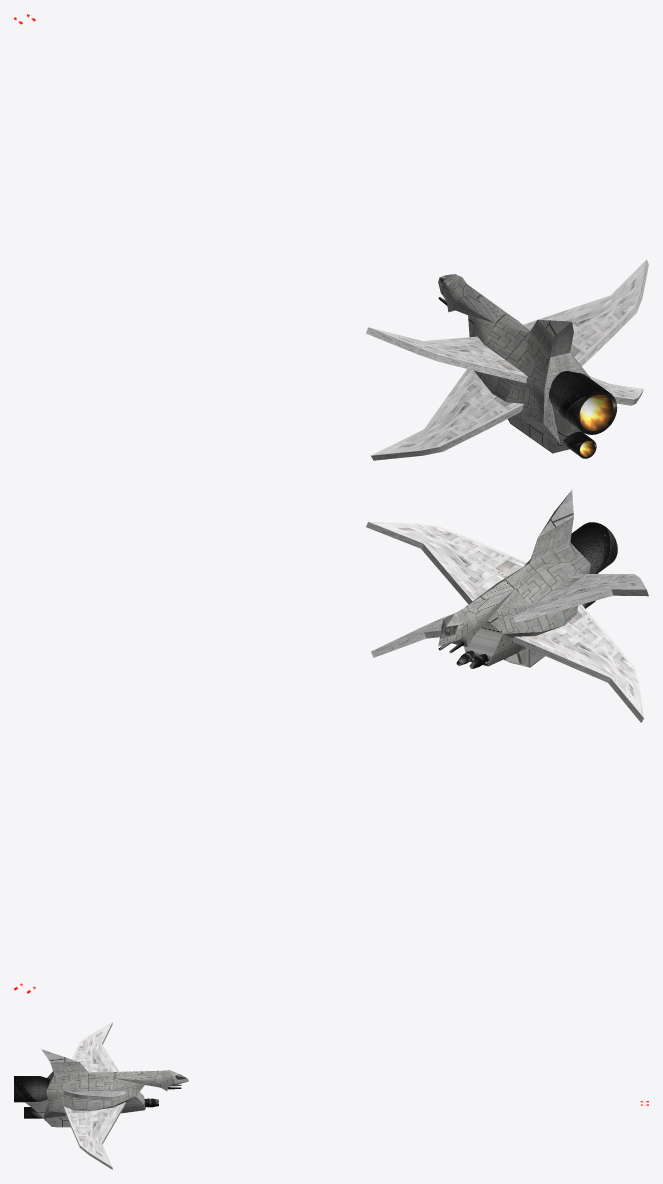
Rendered from Vaisseau_Final.gltf.
3 renders of one model, top to bottom at view 1: azimuth 30°, elevation 25°; view 2: azimuth 150°, elevation 25°; view 3: azimuth 270°, elevation 25°, orthographic. The views are drawn at different scales.
Visible parts, largest first — view 1: Main, Aile gauche haut, Aile gauche bas, exterieur_grand reacteur, interieur_grand reacteur.1; view 2: Main, Aile gauche haut, Aile gauche bas, exterieur_grand reacteur; view 3: Main, Aile gauche bas, Aile gauche haut, exterieur_grand reacteur.
Boxes of the visible parts, bbox=[...] form: Main: bbox=[438, 274, 590, 453]; Aile gauche haut: bbox=[366, 259, 648, 383]; Aile gauche bas: bbox=[371, 369, 643, 460]; exterieur_grand reacteur: bbox=[549, 371, 617, 434]; interieur_grand reacteur.1: bbox=[579, 394, 613, 430]; Main: bbox=[438, 489, 598, 667]; Aile gauche haut: bbox=[366, 521, 648, 622]; Aile gauche bas: bbox=[371, 604, 643, 722]; exterieur_grand reacteur: bbox=[570, 522, 617, 573]; Main: bbox=[25, 1049, 188, 1127]; Aile gauche bas: bbox=[64, 1102, 125, 1169]; Aile gauche haut: bbox=[63, 1022, 125, 1100]; exterieur_grand reacteur: bbox=[14, 1076, 49, 1102].
Bounding box in the file's own units: 655 × 340 × 2307.
6 materials, 5 textured.
